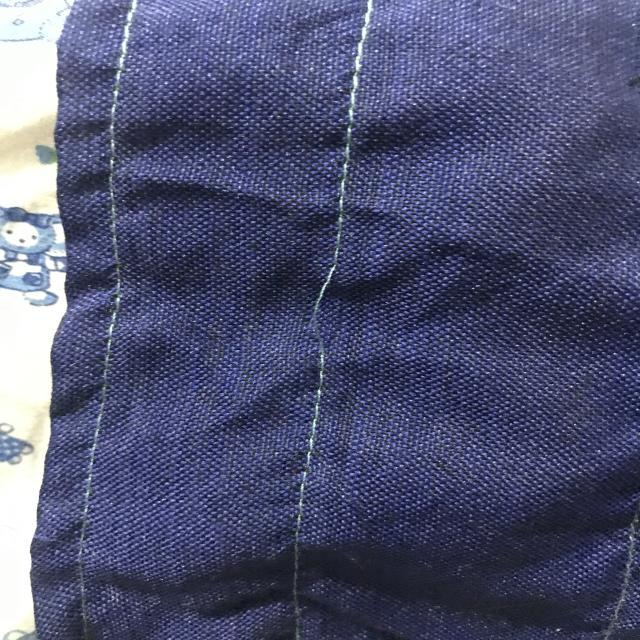good: (286, 417, 338, 536)
skip: (306, 247, 364, 382)
